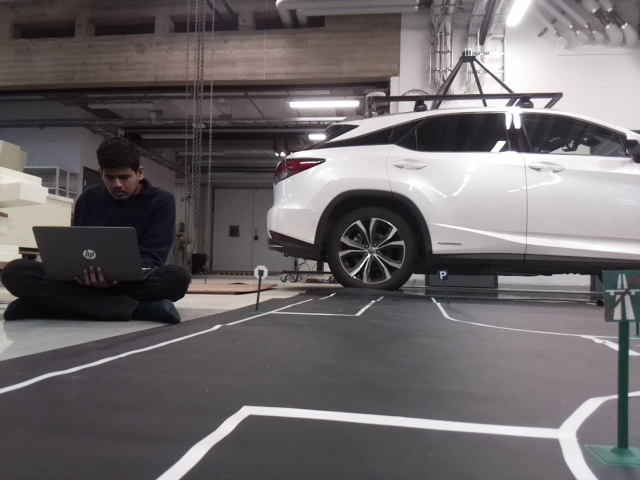HighwayExit: (603, 271, 639, 321)
